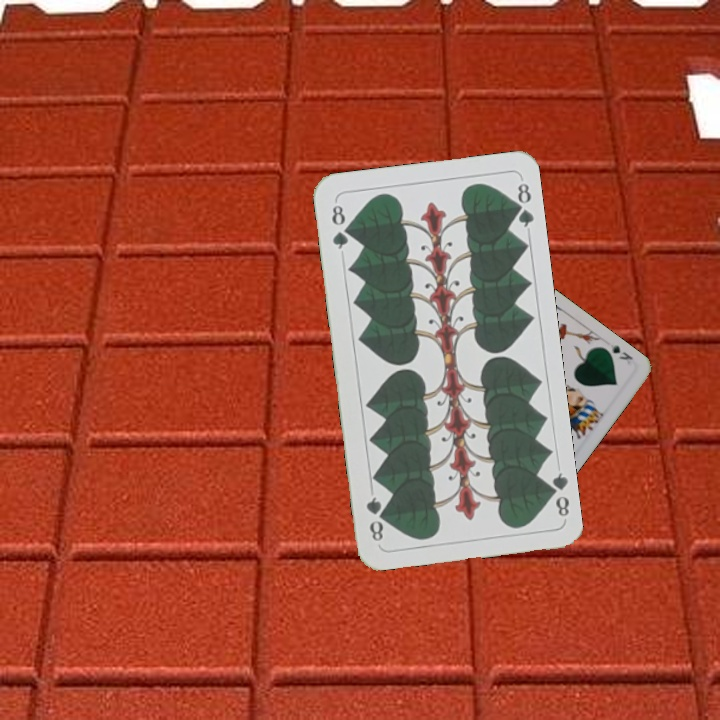G8: (542, 468, 572, 519), (327, 200, 352, 252)
GK: (606, 340, 635, 367)
